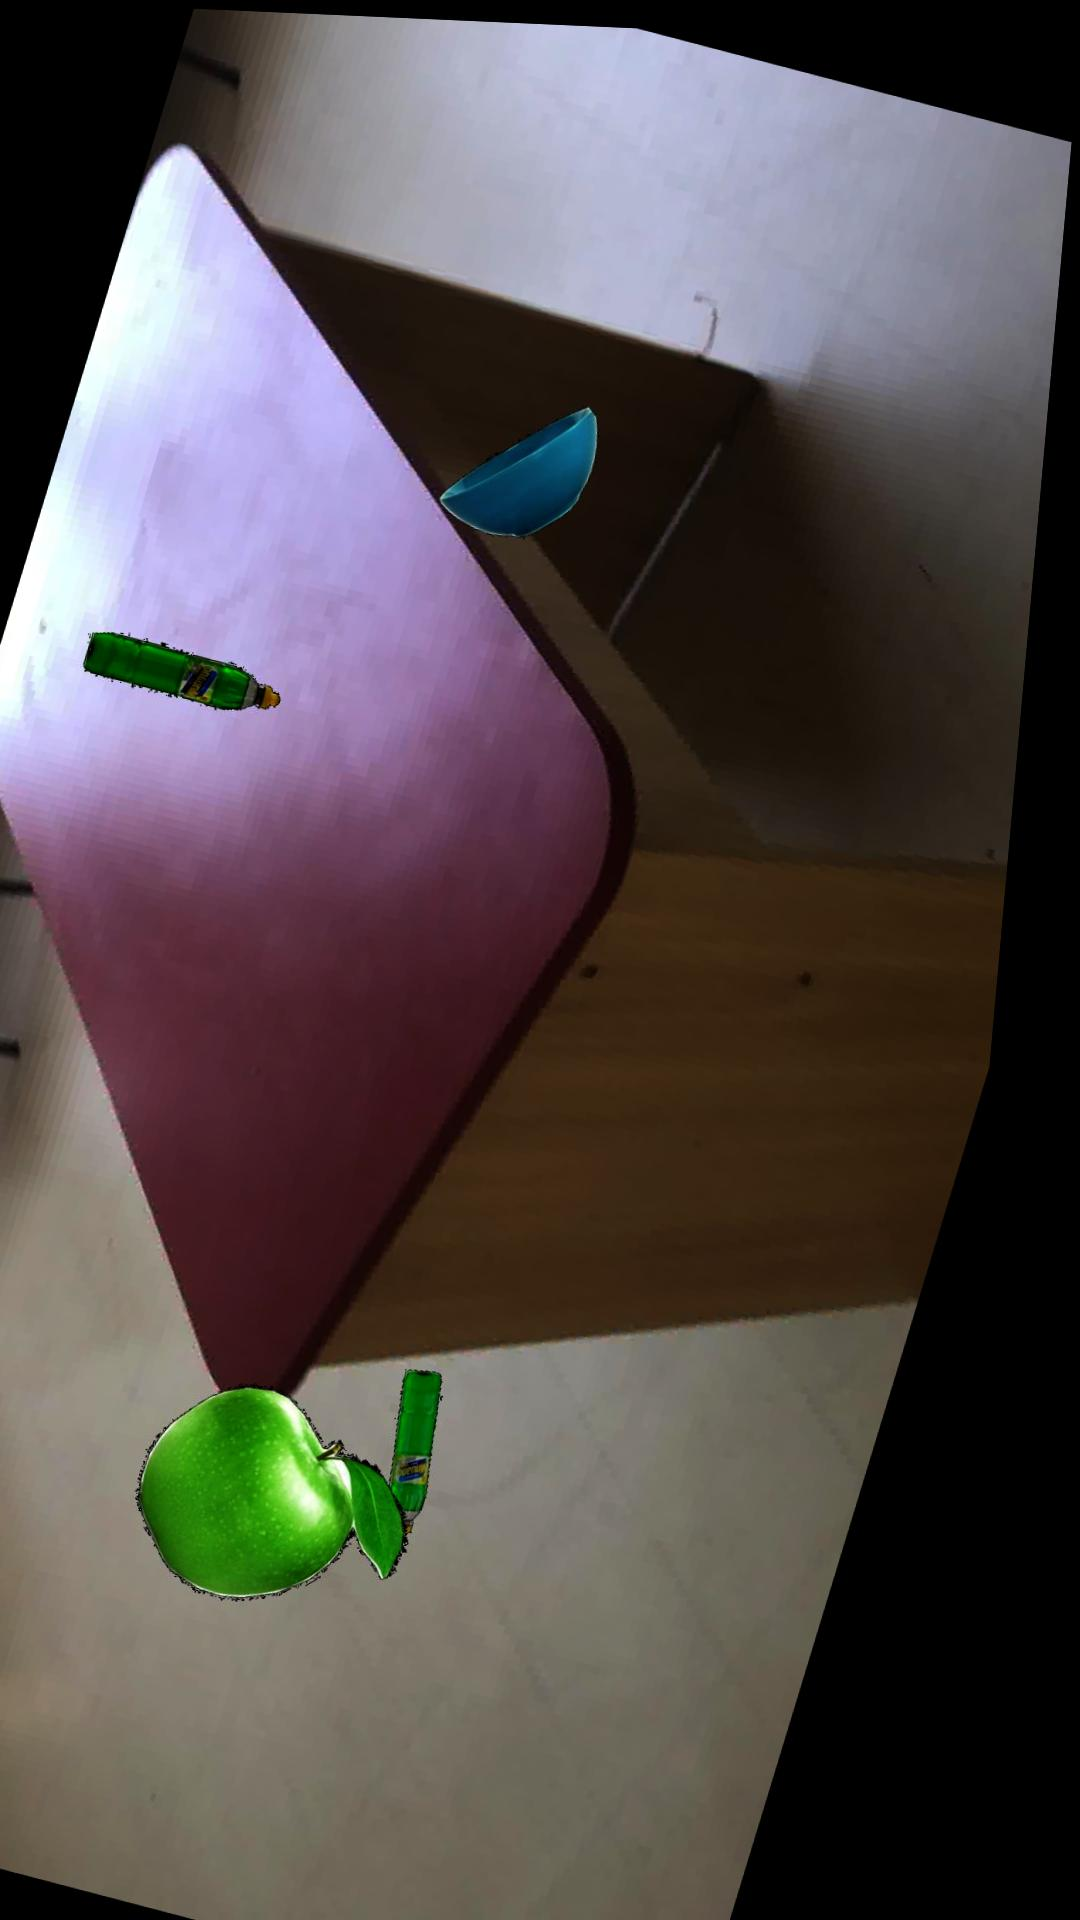bowl: (448, 400, 608, 530)
cleaner: (96, 629, 294, 705), (417, 1362, 468, 1527)
green apple: (164, 1378, 438, 1594)
